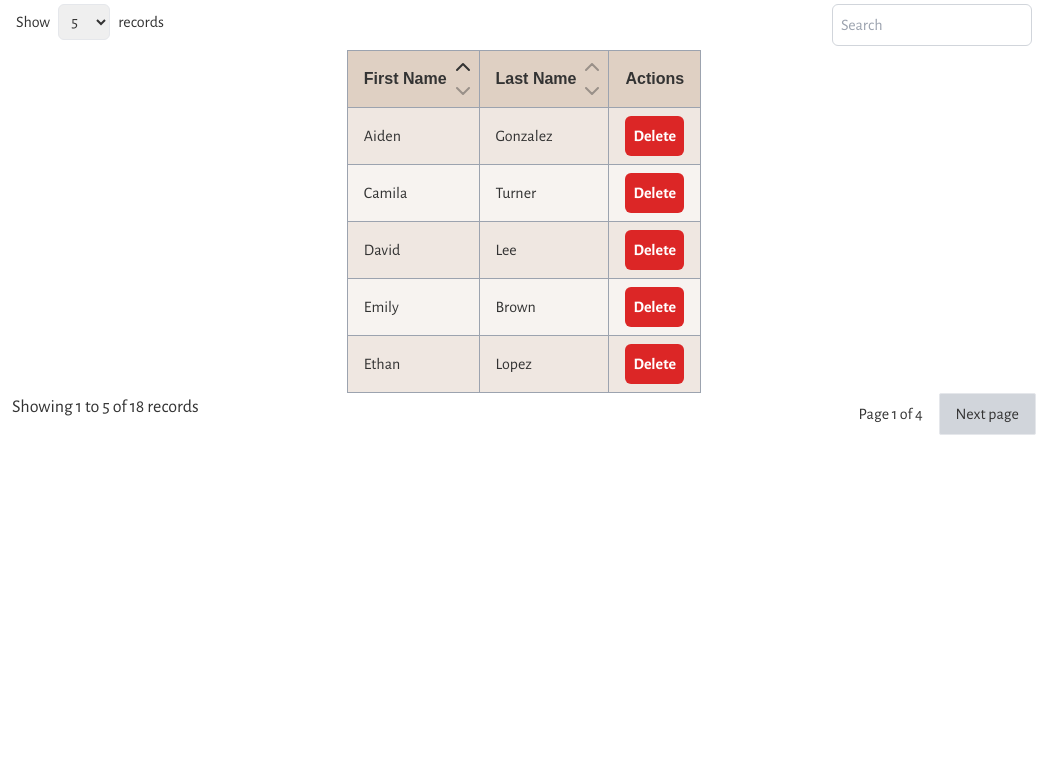
Test: Given the paginated table component, › it should paginate correctly
The width and height of the screenshot is (1048, 768).
Step 1. Select "10" in the dropdown with test id "paginate" → (84, 22), box [58, 4, 110, 40]
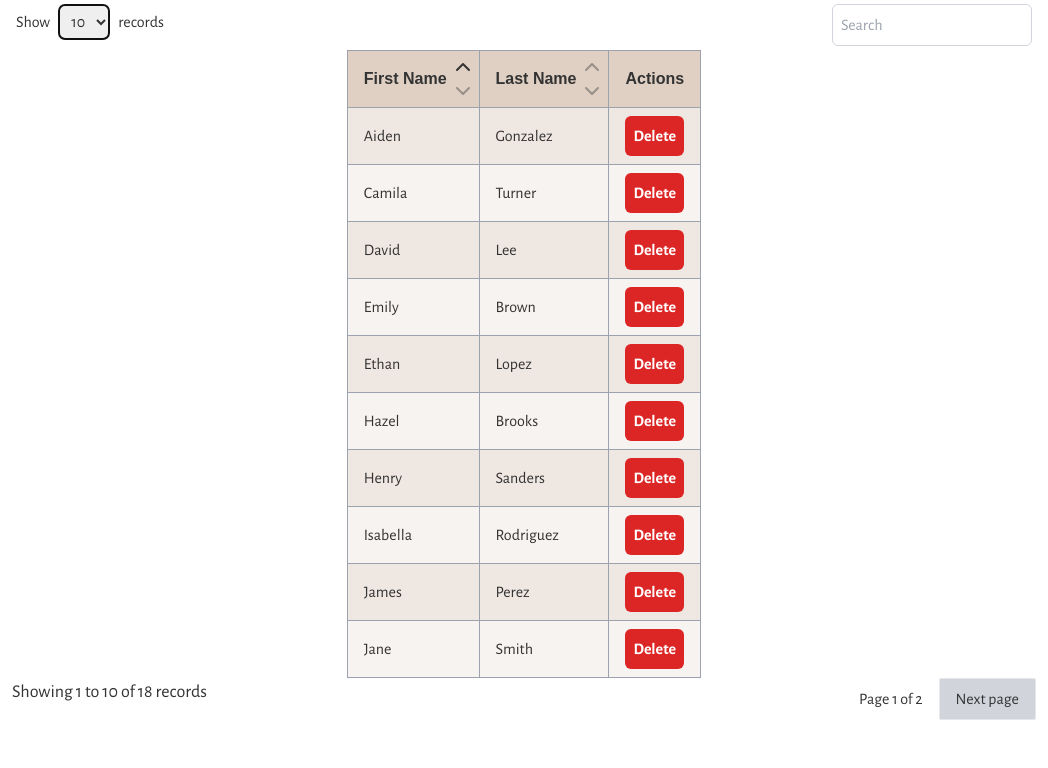
Expected: the number of buttons "Delete" is 10
